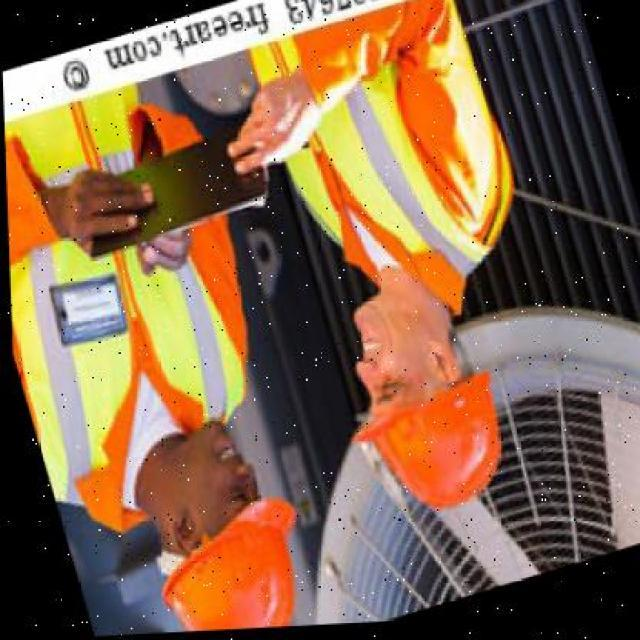helmet: (326, 351, 524, 542), (119, 474, 335, 635)
vest: (3, 71, 263, 503), (222, 0, 544, 336)
